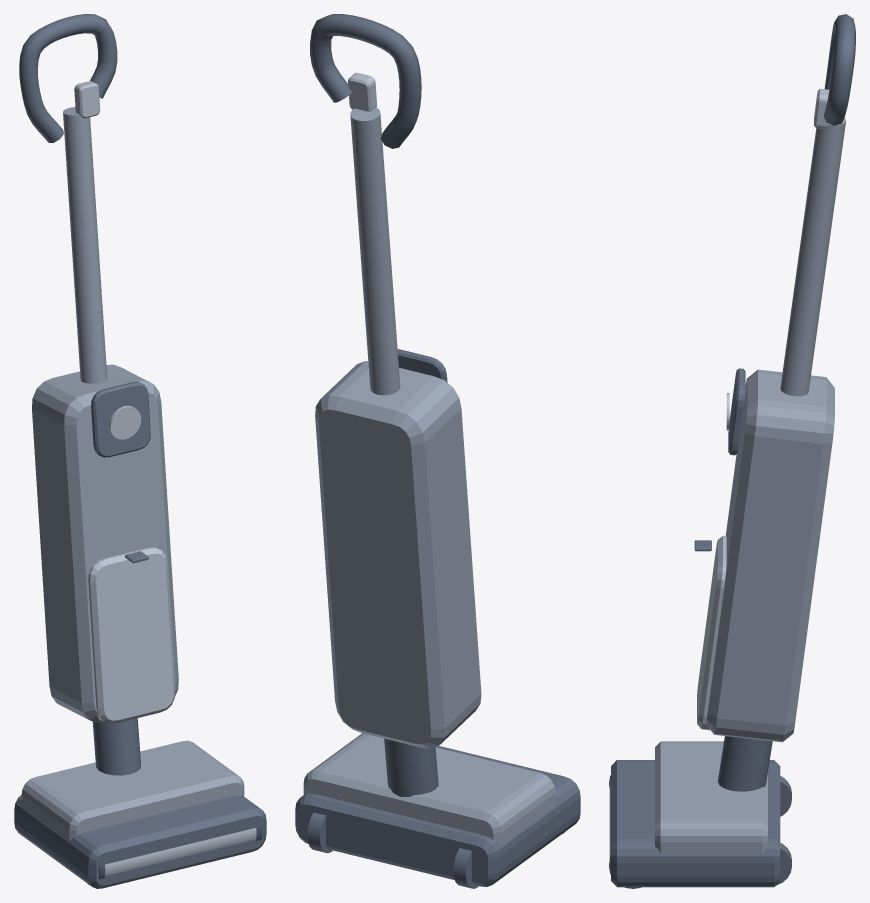
Rendered from 洗地机-lite.glb.
3 renders of one model, left to right at view 1: azimuth 30°, elevation 25°; view 2: azimuth 150°, elevation 25°; view 3: azimuth 270°, elevation 25°, orthographic. The views are drawn at different scales.
Parts seen in each view (by area): view 1: body, dark, soft, light; view 2: body, dark, soft; view 3: body, dark, soft.
Boxes of the visible parts, bbox=[...] form: body: bbox=[21, 107, 244, 841]; dark: bbox=[14, 14, 266, 888]; soft: bbox=[74, 81, 256, 875]; light: bbox=[109, 405, 141, 439]; body: bbox=[303, 107, 555, 845]; dark: bbox=[295, 14, 580, 888]; soft: bbox=[348, 72, 376, 111]; body: bbox=[655, 118, 845, 854]; dark: bbox=[611, 14, 855, 887]; soft: bbox=[609, 88, 829, 859].
Size of the model in its own units: 0.29 by 1.21 by 0.3278.
